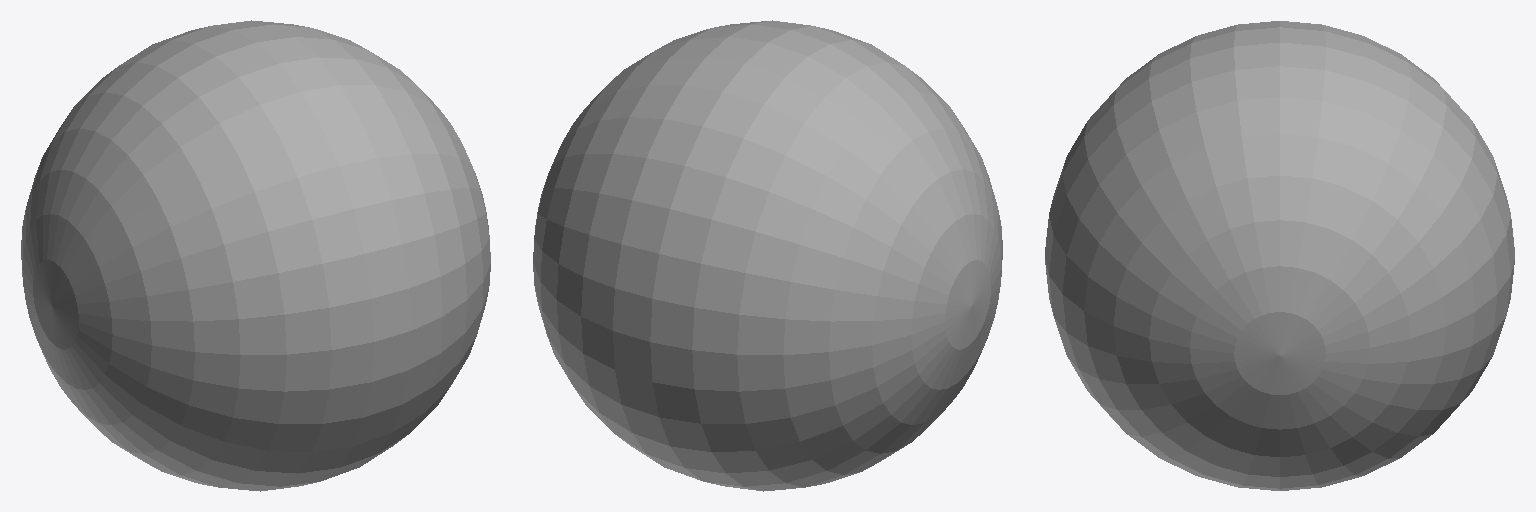
URDF robot description (panda):
<?xml version='1.0' encoding='utf-8'?>
<robot name="panda">

    <link name="link0">
      <inertial>
        <origin xyz="0 0 0.05" rpy="0 0 0" />
        <mass value="4" />
        <inertia ixx="0.4" iyy="0.4" izz="0.4" ixy="0" ixz="0" iyz="0" />
      </inertial>
      <visual>
        <geometry>
          <mesh filename="meshes/visual/link0.obj"/>
        </geometry>
      </visual>
<!--       <collision>
        <geometry>
          <mesh filename="meshes/collision/link0.obj"/>
        </geometry>
      </collision> -->
    </link>
    <link name="link1">
      <inertial>
        <origin xyz="0 0 -0.07" rpy="0 -0 0" />
        <mass value="4" />
        <inertia ixx="0.3" iyy="0.3" izz="0.3" ixy="0" ixz="0" iyz="0" />
      </inertial>
      <visual>
        <geometry>
          <mesh filename="meshes/visual/link1.obj"/>
        </geometry>
      </visual>
      <!-- <collision>
        <geometry>
          <mesh filename="meshes/collision/link1.obj"/>
        </geometry>
      </collision> -->
    </link>
    <link name="link2">
      <inertial>
        <origin xyz="0 -0.1 0" rpy="0 -0 0" />
        <mass value="3" />
        <inertia ixx="0.3" iyy="0.3" izz="0.3" ixy="0" ixz="0" iyz="0" />
      </inertial>
      <visual>
        <geometry>
          <mesh filename="meshes/visual/link2.obj"/>
        </geometry>
      </visual>
      <!-- <collision>
        <geometry>
          <mesh filename="meshes/collision/link2.obj"/>
        </geometry>
      </collision> -->
    </link>
    <link name="link3">
      <inertial>
        <origin xyz="0.04 0 -0.05" rpy="0 -0 0" />
        <mass value="3" />
        <inertia ixx="0.2" iyy="0.2" izz="0.2" ixy="0" ixz="0" iyz="0" />
      </inertial>
      <visual>
        <geometry>
          <mesh filename="meshes/visual/link3.obj"/>
        </geometry>
      </visual>
      <!-- <collision>
        <geometry>
          <mesh filename="meshes/collision/link3.obj"/>
        </geometry>
      </collision> -->
    </link>
    <link name="link4">
      <inertial>
        <origin xyz="-0.04 0.05 0" rpy="0 -0 0" />
        <mass value="3" />
        <inertia ixx="0.2" iyy="0.2" izz="0.2" ixy="0" ixz="0" iyz="0" />
      </inertial>
      <visual>
        <geometry>
          <mesh filename="meshes/visual/link4.obj"/>
        </geometry>
      </visual>
<!--       <collision>
        <geometry>
          <mesh filename="meshes/collision/link4.obj"/>
        </geometry>
      </collision> -->
    </link>
    <link name="link5">
      <inertial>
        <origin xyz="0 0 -0.15" rpy="0 -0 0" />
        <mass value="3" />
        <inertia ixx="0.2" iyy="0.2" izz="0.2" ixy="0" ixz="0" iyz="0" />
      </inertial>
      <visual>
        <geometry>
          <mesh filename="meshes/visual/link5.obj"/>
        </geometry>
      </visual>
<!--       <collision>
        <geometry>
          <mesh filename="meshes/collision/link5.obj"/>
        </geometry>
      </collision> -->
    </link>
    <link name="link6">
      <inertial>
        <origin xyz="0.06 0 0" rpy="0 -0 0" />
        <mass value="2" />
        <inertia ixx="0.1" iyy="0.1" izz="0.1" ixy="0" ixz="0" iyz="0" />
      </inertial>
      <visual>
        <geometry>
          <mesh filename="meshes/visual/link6.obj"/>
        </geometry>
      </visual>
      <!-- <collision>
        <geometry>
          <mesh filename="meshes/collision/link6.obj"/>
        </geometry>
      </collision> -->
    </link>
    <link name="link7">
      <inertial>
        <origin xyz="0 0 0.1" rpy="0 -0 0" />
        <mass value="1.0" />
        <inertia ixx="0.1" iyy="0.1" izz="0.1" ixy="0" ixz="0" iyz="0" />
      </inertial>
      <visual>
        <geometry>
          <mesh filename="meshes/visual/link7.obj"/>
        </geometry>
      </visual>
      <visual>
        <origin xyz="0 0 0.15" rpy="0 -0 0" />
        <geometry>
          <sphere radius="0.03"/>
        </geometry>
      </visual>
      <!-- <collision>
        <geometry>
          <mesh filename="meshes/collision/link7.obj"/>
        </geometry>
      </collision> -->
    </link>
    <joint name="joint1" type="revolute">
      <safety_controller k_position="100.0" k_velocity="40.0" soft_lower_limit="-2.8973" soft_upper_limit="2.8973"/>
      <origin rpy="0 0 0" xyz="0 0 0.333"/>
      <parent link="link0"/>
      <child link="link1"/>
      <axis xyz="0 0 1"/>
      <limit effort="87" lower="-2.8973" upper="2.8973" velocity="2.1750"/>
    </joint>
    <joint name="joint2" type="revolute">
      <safety_controller k_position="100.0" k_velocity="40.0" soft_lower_limit="-1.7628" soft_upper_limit="1.7628"/>
      <origin rpy="-1.57079632679 0 0" xyz="0 0 0"/>
      <parent link="link1"/>
      <child link="link2"/>
      <axis xyz="0 0 1"/>
      <calibration falling="-45.0" />
      <limit effort="87" lower="-1.7628" upper="1.7628" velocity="2.1750"/>
    </joint>
    <joint name="joint3" type="revolute">
      <safety_controller k_position="100.0" k_velocity="40.0" soft_lower_limit="-2.8973" soft_upper_limit="2.8973"/>
      <origin rpy="1.57079632679 0 0" xyz="0 -0.316 0"/>
      <parent link="link2"/>
      <child link="link3"/>
      <axis xyz="0 0 1"/>
      <limit effort="87" lower="-2.8973" upper="2.8973" velocity="2.1750"/>
    </joint>
    <joint name="joint4" type="revolute">
      <safety_controller k_position="100.0" k_velocity="40.0" soft_lower_limit="-3.0718" soft_upper_limit="-0.0698"/>
      <origin rpy="1.57079632679 0 0" xyz="0.0825 0 0"/>
      <parent link="link3"/>
      <child link="link4"/>
      <axis xyz="0 0 1"/>
      <calibration falling="-125.0" />
      <limit effort="87" lower="-3.0718" upper="-0.0698" velocity="2.1750"/>
    </joint>
    <joint name="joint5" type="revolute">
      <safety_controller k_position="100.0" k_velocity="40.0" soft_lower_limit="-2.8973" soft_upper_limit="2.8973"/>
      <origin rpy="-1.57079632679 0 0" xyz="-0.0825 0.384 0"/>
      <parent link="link4"/>
      <child link="link5"/>
      <axis xyz="0 0 1"/>
      <limit effort="12" lower="-2.8973" upper="2.8973" velocity="2.6100"/>
    </joint>
    <joint name="joint6" type="revolute">
      <safety_controller k_position="100.0" k_velocity="40.0" soft_lower_limit="-0.0175" soft_upper_limit="3.7525"/>
      <origin rpy="1.57079632679 0 0" xyz="0 0 0"/>
      <parent link="link5"/>
      <child link="link6"/>
      <axis xyz="0 0 1"/>
      <calibration falling="80.0" />
      <limit effort="12" lower="-0.0175" upper="3.7525" velocity="2.6100"/>
    </joint>
    <joint name="joint7" type="revolute">
      <safety_controller k_position="100.0" k_velocity="40.0" soft_lower_limit="-2.8973" soft_upper_limit="2.8973"/>
      <origin rpy="1.57079632679 0 0" xyz="0.088 0 0"/>
      <parent link="link6"/>
      <child link="link7"/>
      <axis xyz="0 0 1"/>
      <limit effort="12" lower="-2.8973" upper="2.8973" velocity="2.6100"/>
    </joint>
</robot>

--- Render facts (derived) ---
Views: 3 orthographic renders of the robot side by side, from view 1: azimuth 30°, elevation 25°; view 2: azimuth 150°, elevation 25°; view 3: azimuth 270°, elevation 25°.
Robot: panda — 8 links, 7 joints (7 revolute); root link link0; default pose: all joints at 0 but 1 set to mid-range because 0 is outside their limits (joint4 = -1.57).
Visible links, largest first — view 1: link7; view 2: link7; view 3: link7.
Link boxes in pixels (bbox=[...]): link7: bbox=[21, 20, 490, 491]; link7: bbox=[533, 20, 1002, 491]; link7: bbox=[1045, 21, 1514, 490].
Bounding box of the posed robot: 0.06 × 0.06 × 0.06 m (x, y, z).
0 mesh visuals loaded from 8 distinct referenced files (none loaded); not drawn: 8 (reference not matched to a file when rendering).